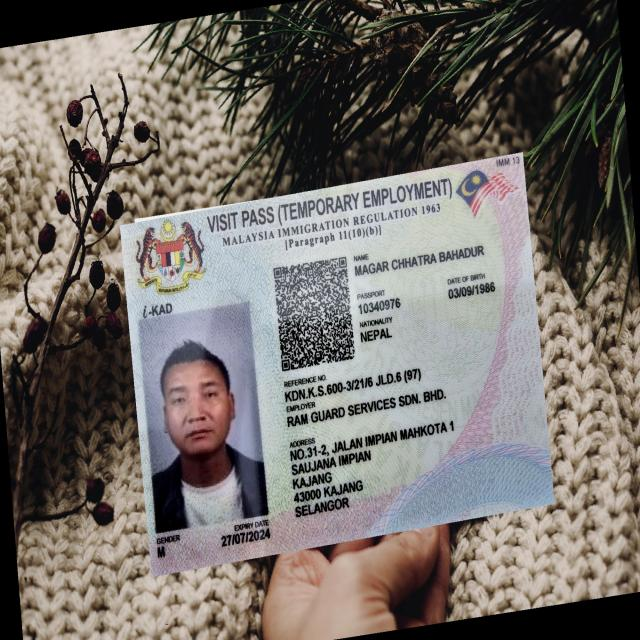ikad-temp: (119, 151, 555, 577)
